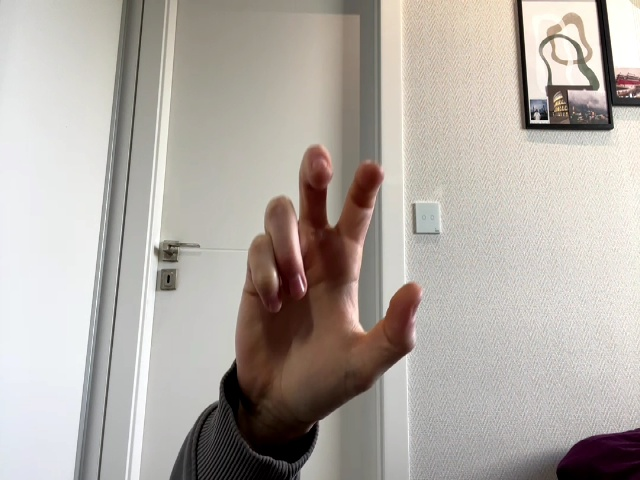CH: (234, 144, 421, 422)
